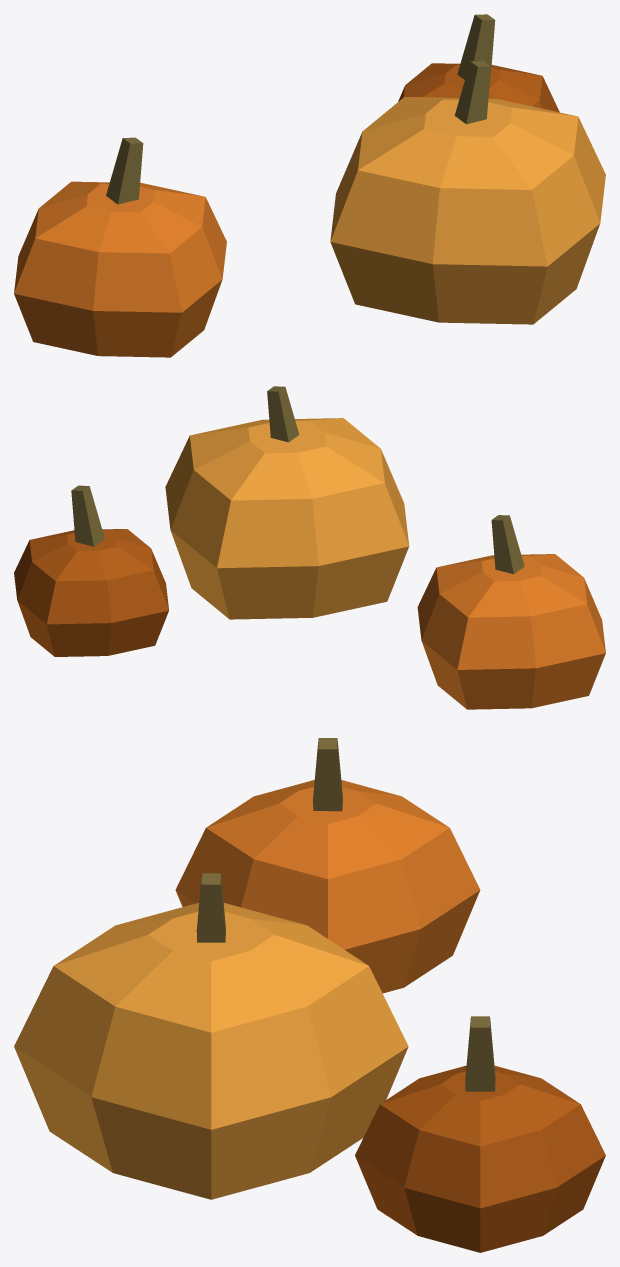
Rendered from deco_flowers.glb.
3 views of the same model, one above another, from view 1: azimuth 30°, elevation 25°; view 2: azimuth 150°, elevation 25°; view 3: azimuth 270°, elevation 25° (orthographic). The views are drawn at different scales.
Visible parts, largest first — view 1: deco_flowers_mesh; view 2: deco_flowers_mesh; view 3: deco_flowers_mesh.
Part boxes in pixels (x1,y1,x2,y2): deco_flowers_mesh: [14, 14, 605, 357]; deco_flowers_mesh: [14, 386, 605, 709]; deco_flowers_mesh: [14, 738, 605, 1252].
Bounding box in the file's own units: 0.1552 × 0.0568 × 0.1056.
